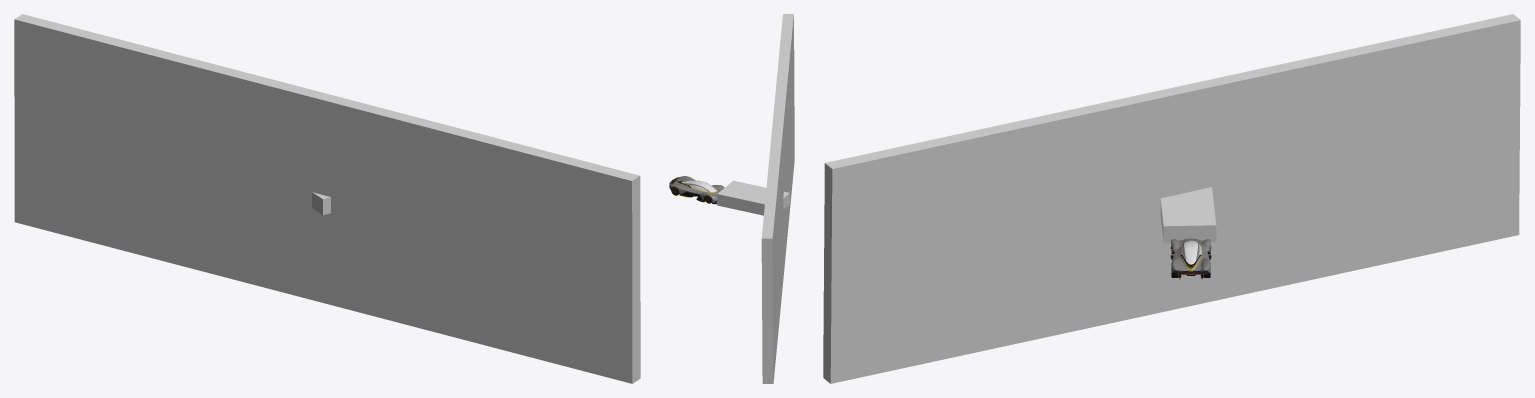
Rendered from SmartCar_Concept_AI_4.fbx.
3 views of the same model, side by side, from view 1: azimuth 30°, elevation 25°; view 2: azimuth 150°, elevation 25°; view 3: azimuth 270°, elevation 25° (orthographic). The views are drawn at different scales.
Visible parts, largest first — view 1: Trigger; view 2: Trigger, front_detector, Body, door_r; view 3: Trigger, front_detector, Body.
Part boxes in pixels (box(x1,y1,x2,y2)): Trigger: box(14, 14, 640, 383); Trigger: box(761, 14, 794, 383); front_detector: box(717, 180, 789, 215); Body: box(669, 176, 724, 204); door_r: box(688, 182, 706, 196); Trigger: box(823, 14, 1520, 383); front_detector: box(1160, 187, 1216, 243); Body: box(1170, 238, 1211, 278).
Size of what is drawn, in the model's own units: 2001 by 1285 by 3712.
